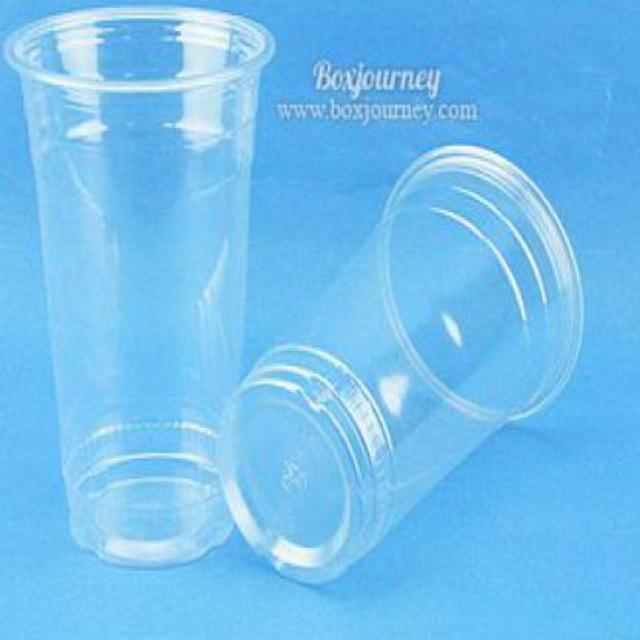plastic_box: (207, 144, 588, 586), (4, 8, 252, 562)
